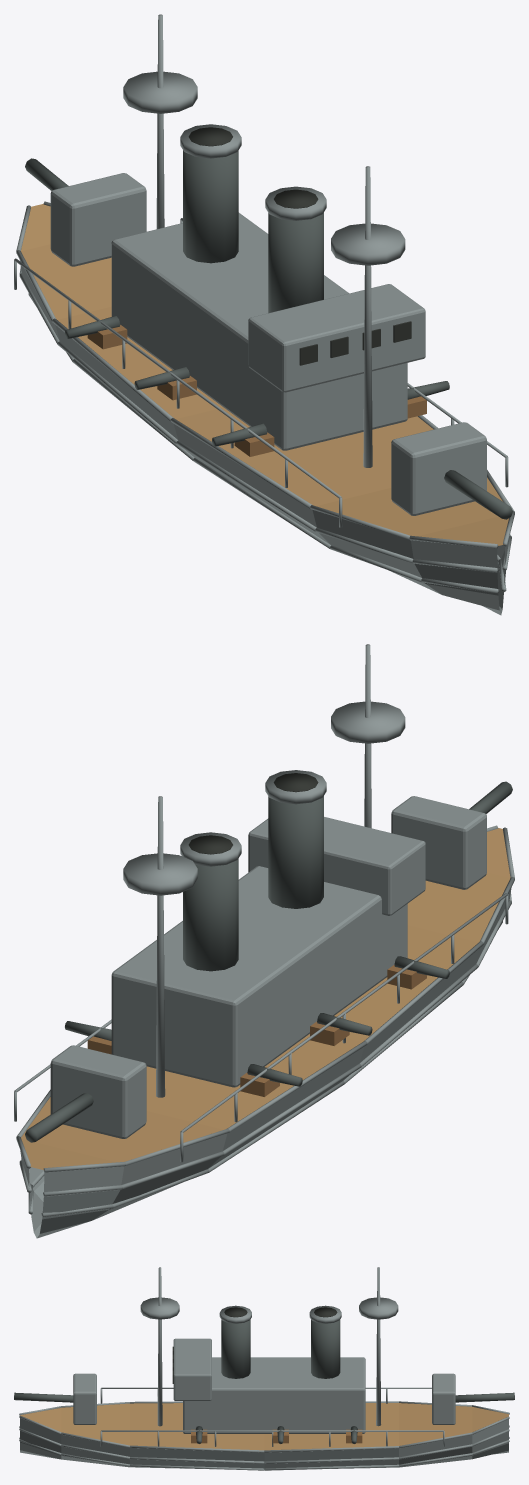
File: protected-cruiser.glb
3 views of the same model, one above another, from view 1: azimuth 30°, elevation 25°; view 2: azimuth 150°, elevation 25°; view 3: azimuth 270°, elevation 25° (orthographic). The views are drawn at different scales.
Parts seen in each view (by area): view 1: unit_root_geometry, shielded_deck_gun_geometry, shielded_deck_gun.001_geometry; view 2: unit_root_geometry, shielded_deck_gun.001_geometry, shielded_deck_gun_geometry; view 3: unit_root_geometry, shielded_deck_gun_geometry, shielded_deck_gun.001_geometry.
Boxes of the visible parts, x1=… form: unit_root_geometry: x1=14, y1=14, x2=514, y2=615; shielded_deck_gun_geometry: x1=391, y1=422, x2=512, y2=519; shielded_deck_gun.001_geometry: x1=25, y1=158, x2=146, y2=266; unit_root_geometry: x1=14, y1=644, x2=514, y2=1238; shielded_deck_gun.001_geometry: x1=25, y1=1045, x2=146, y2=1142; shielded_deck_gun_geometry: x1=391, y1=781, x2=512, y2=889; unit_root_geometry: x1=19, y1=1267, x2=509, y2=1470; shielded_deck_gun_geometry: x1=14, y1=1373, x2=96, y2=1424; shielded_deck_gun.001_geometry: x1=432, y1=1373, x2=514, y2=1424.
Bounding box in the file's own units: 1.74 × 2.65 × 6.14.
